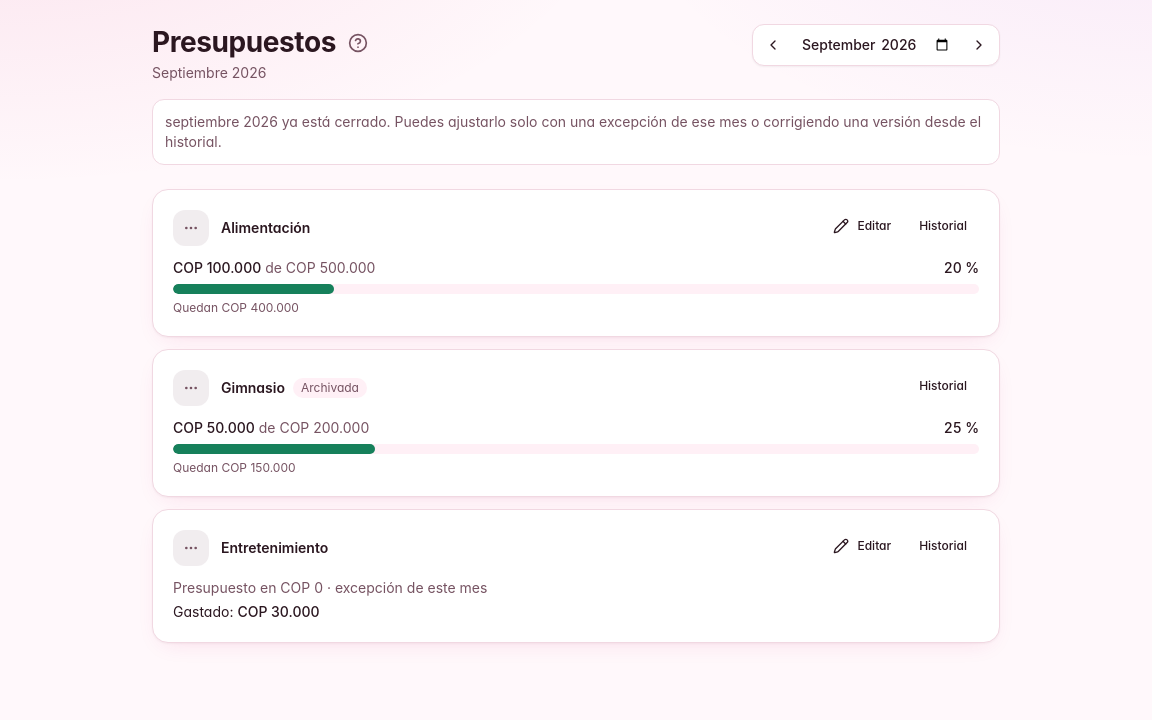
Test: Budgets — ayuda de la pantalla (M18) › el «?» junto al título explica la pantalla
The image size is (1152, 720).
Click the button named "Ayuda: Presupuestos" at (358,43), box [340,25,376,61]
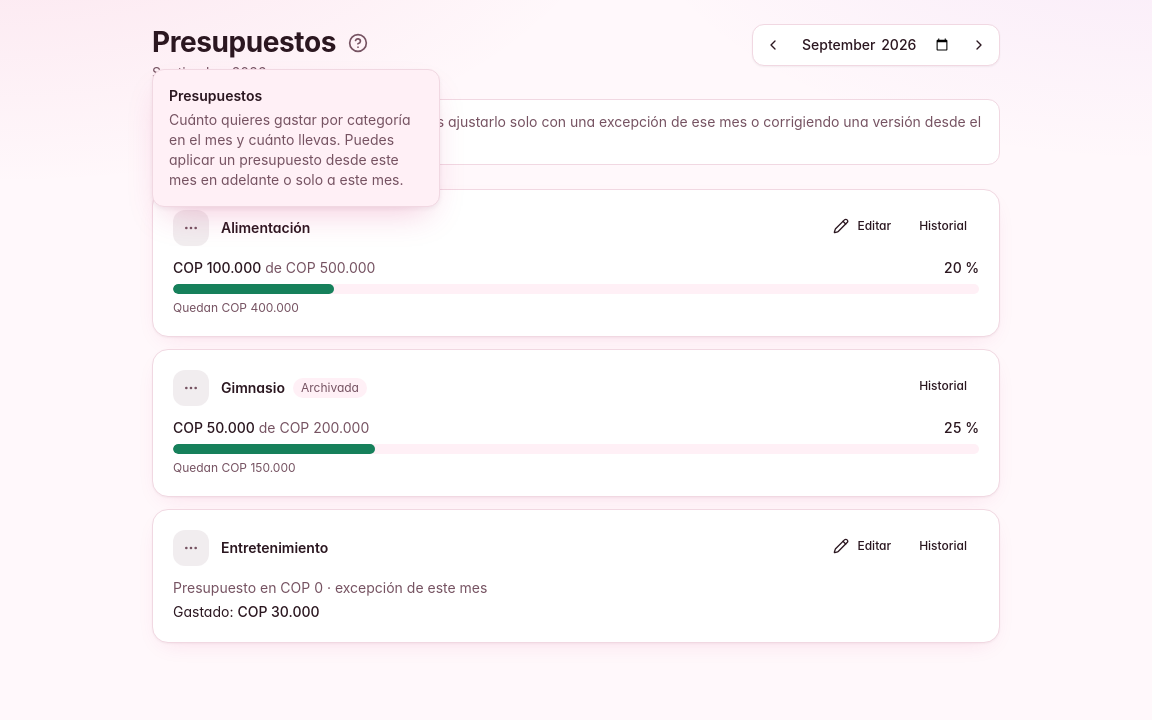
Expected: the element "Presupuestos" shows "Cuánto quieres gastar por categoría en el mes y cuánto llevas. Puedes aplicar un presupuesto desde este mes en adelante o solo a este mes.", [169,111,410,188]
